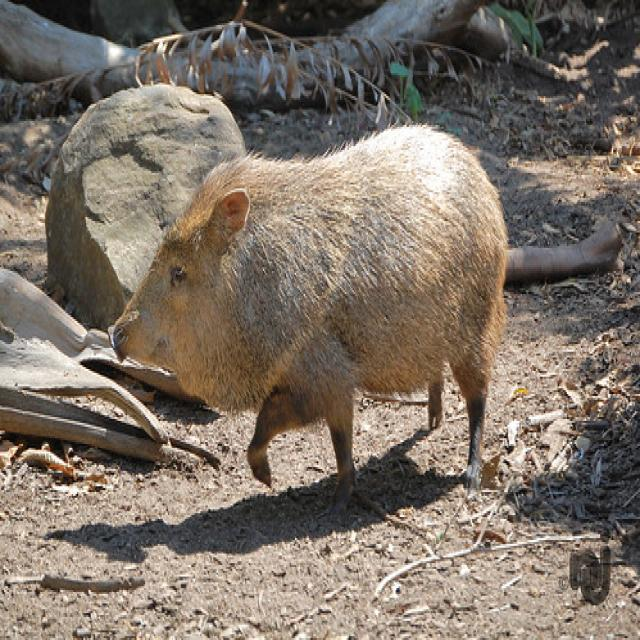boar: (84, 116, 542, 522)
